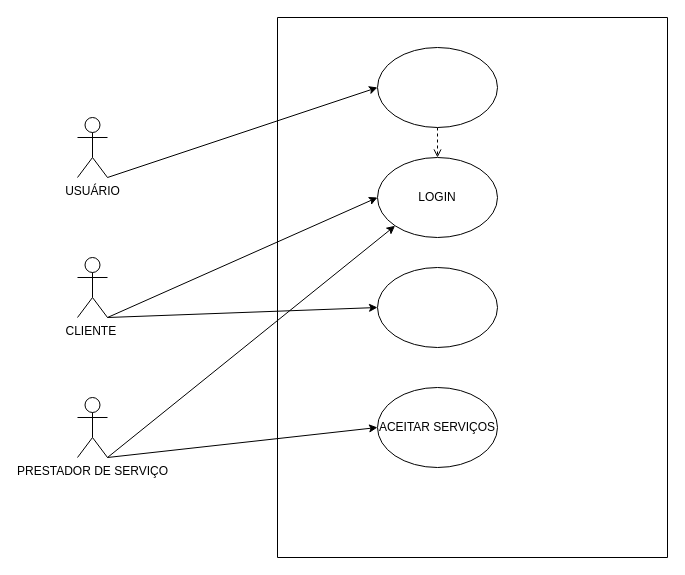
This 685x575 diagram has some shape labels left out. Here are the shapes that lost their labels. From the top down, the centre of each, then its label:
At (x=437, y=87): "SE CADASTRAR".
At (x=437, y=307): "ANUNCIAR SERVIÇOS".
